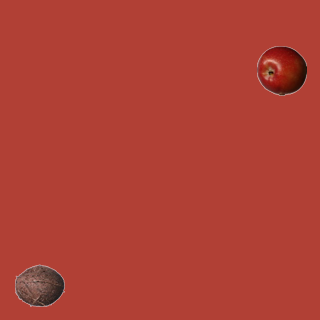Apple Braeburn: (256, 45, 306, 95)
Cocos: (14, 260, 64, 310)
